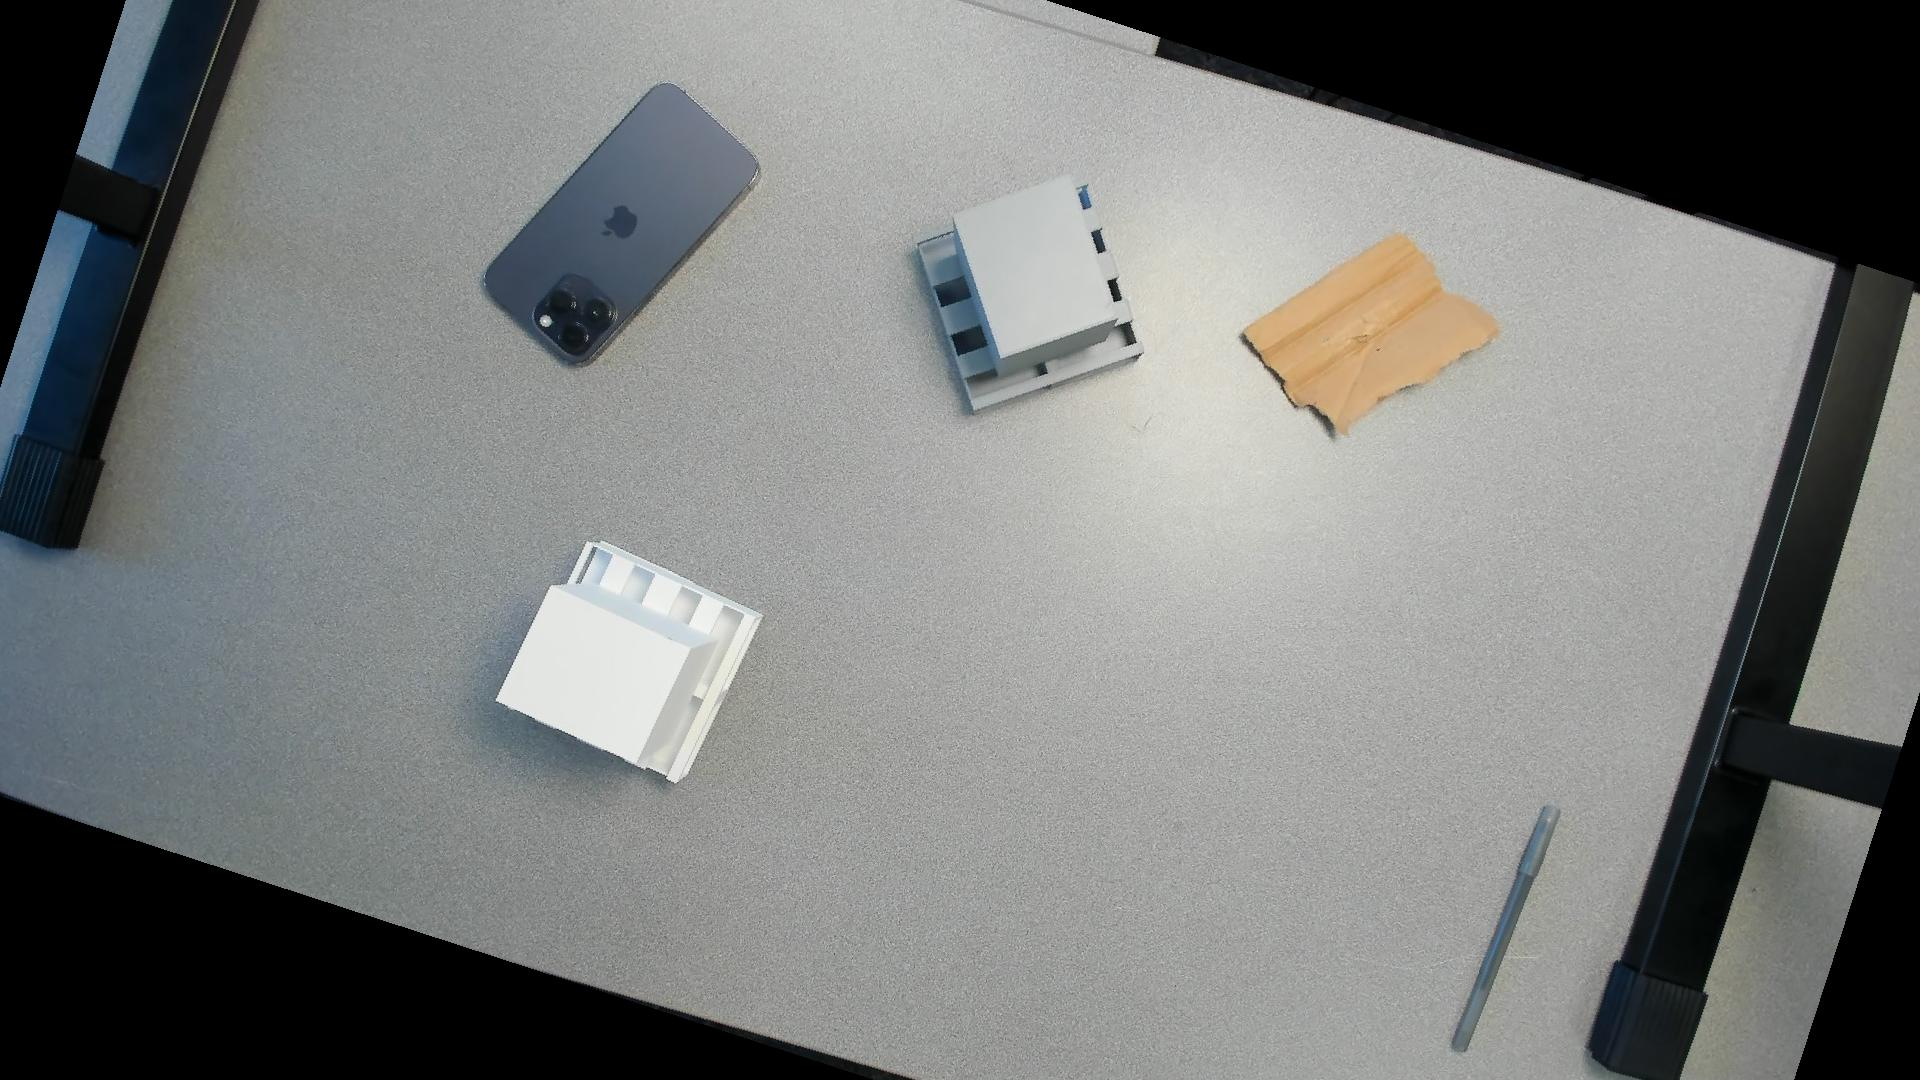grey pallet: (905, 166, 1153, 430)
white pallet: (481, 529, 757, 808)
